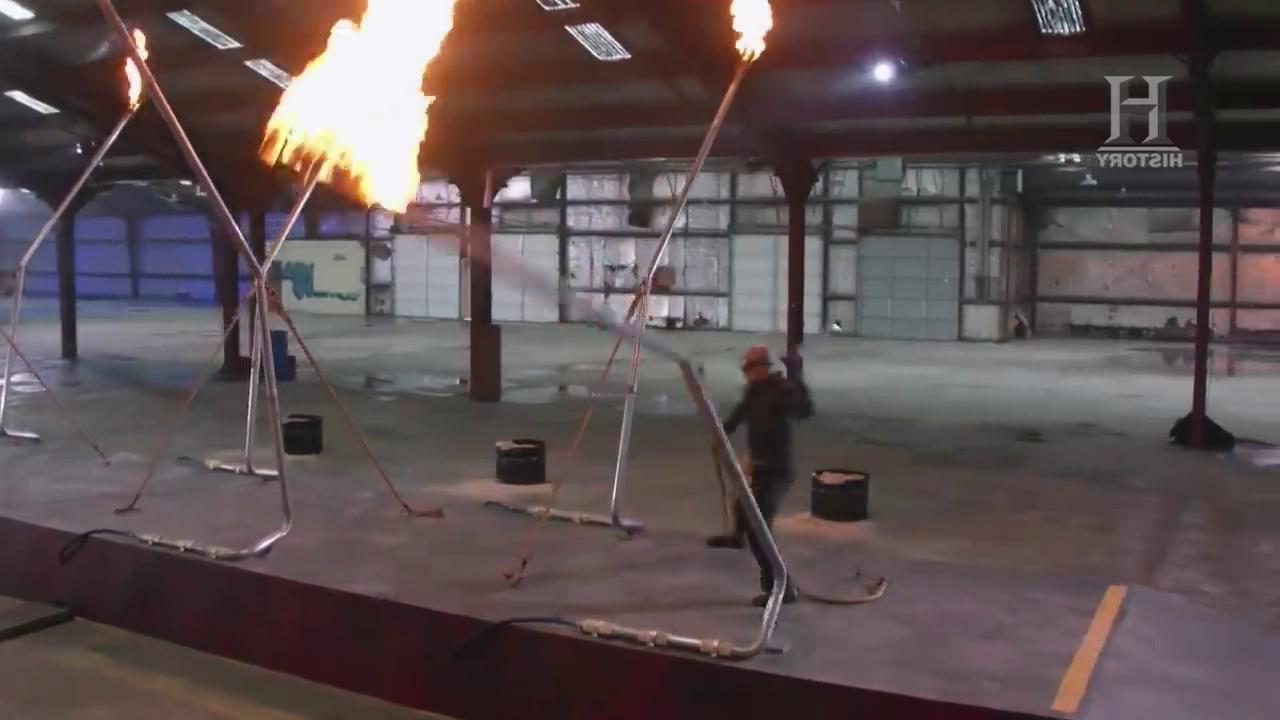Fire: (242, 8, 466, 217), (718, 10, 780, 65), (118, 26, 153, 106)
